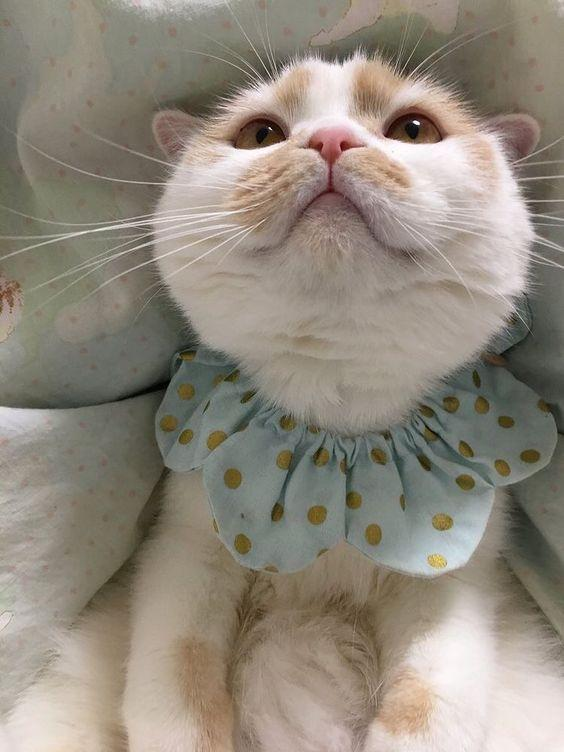kedo: (153, 52, 540, 435)
